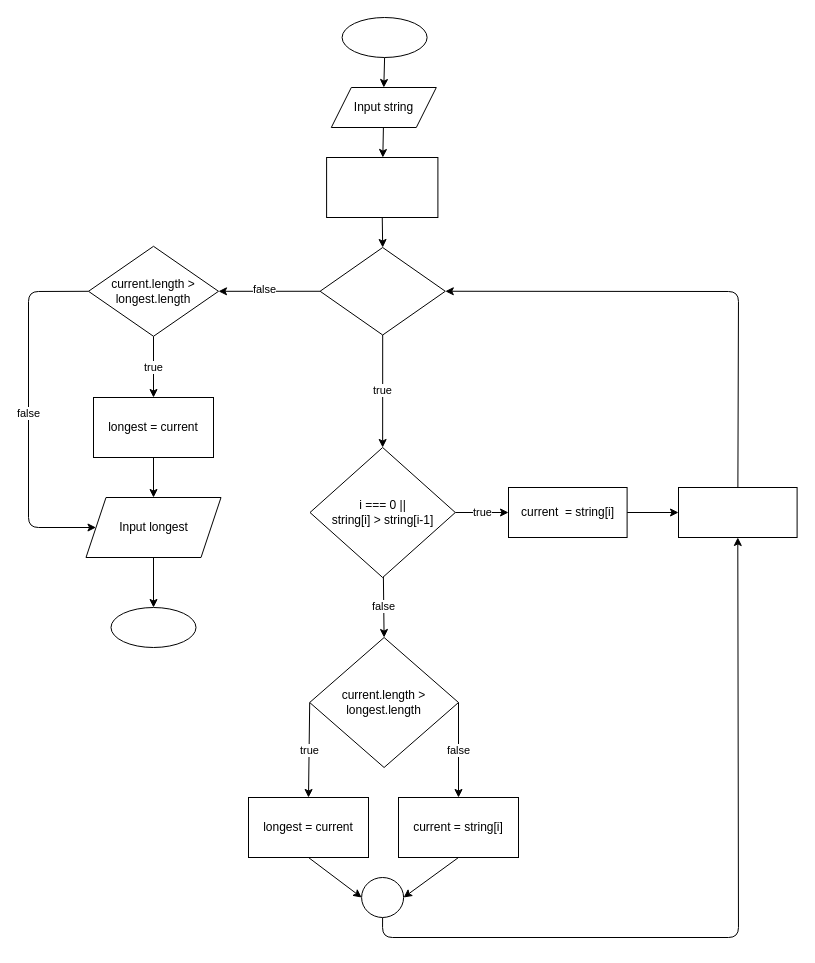
Image size: 815x963. Some labels were removed from this diagram. The shapes that lost their labels are listed below. From the top down, each one's centre as x and y in pixels, then its label:
[384,37]: begin
[382,187]: longest = " " current = " " i = 0
[382,290]: i < string.length
[737,512]: i = i + 1
[153,627]: end
